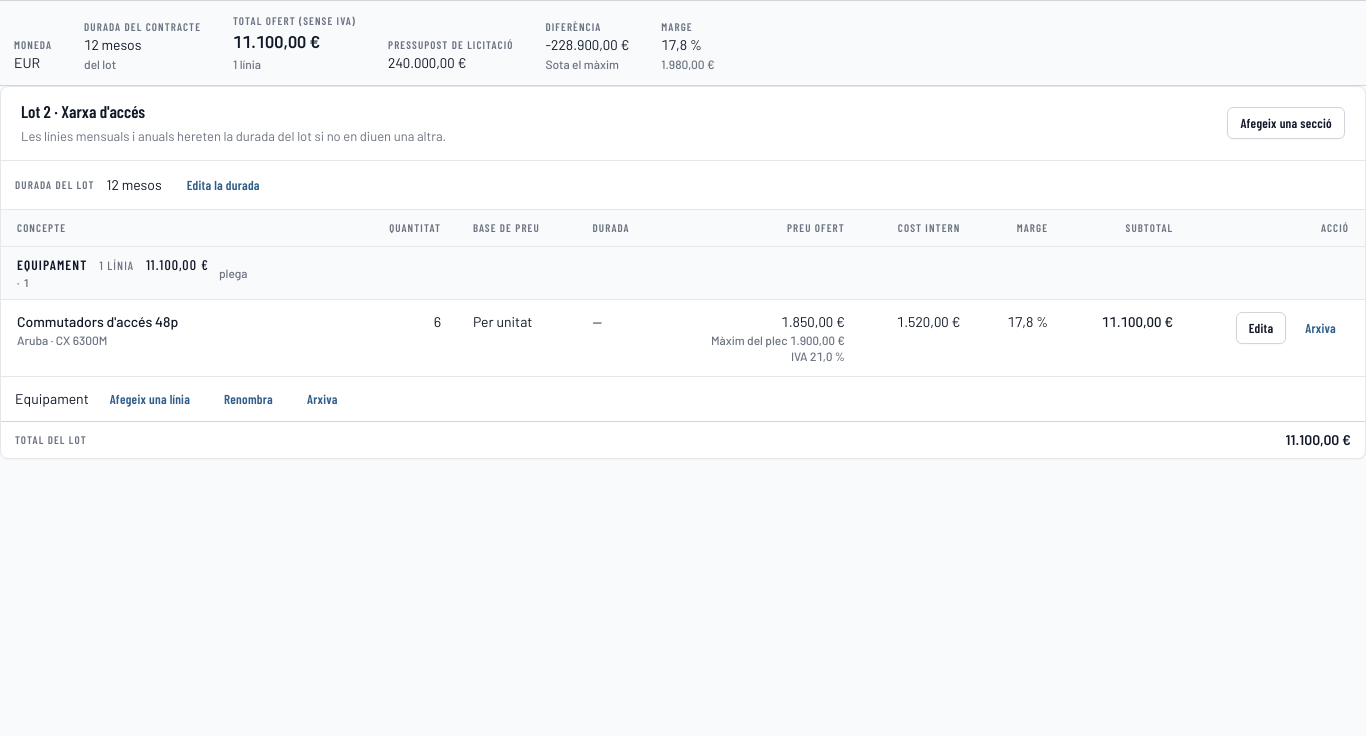
Test: Oferta econòmica · edició › escriure no desa res ni mou els totals
Click the button "Edita" at (1261, 328), box [1236,312,1286,344]
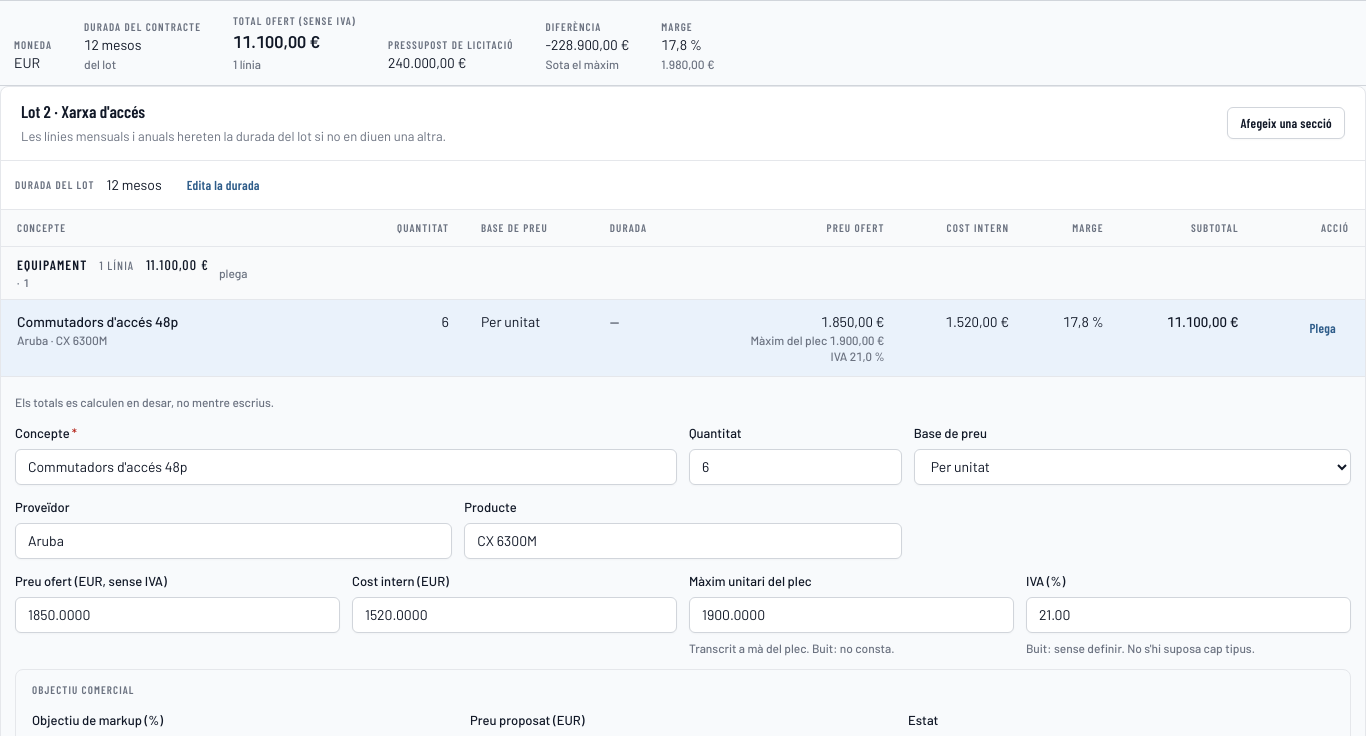
Replace the text in the field labelled "Preu ofert (EUR, sense IVA)" with "9999" at (178, 615), box [15,597,340,633]
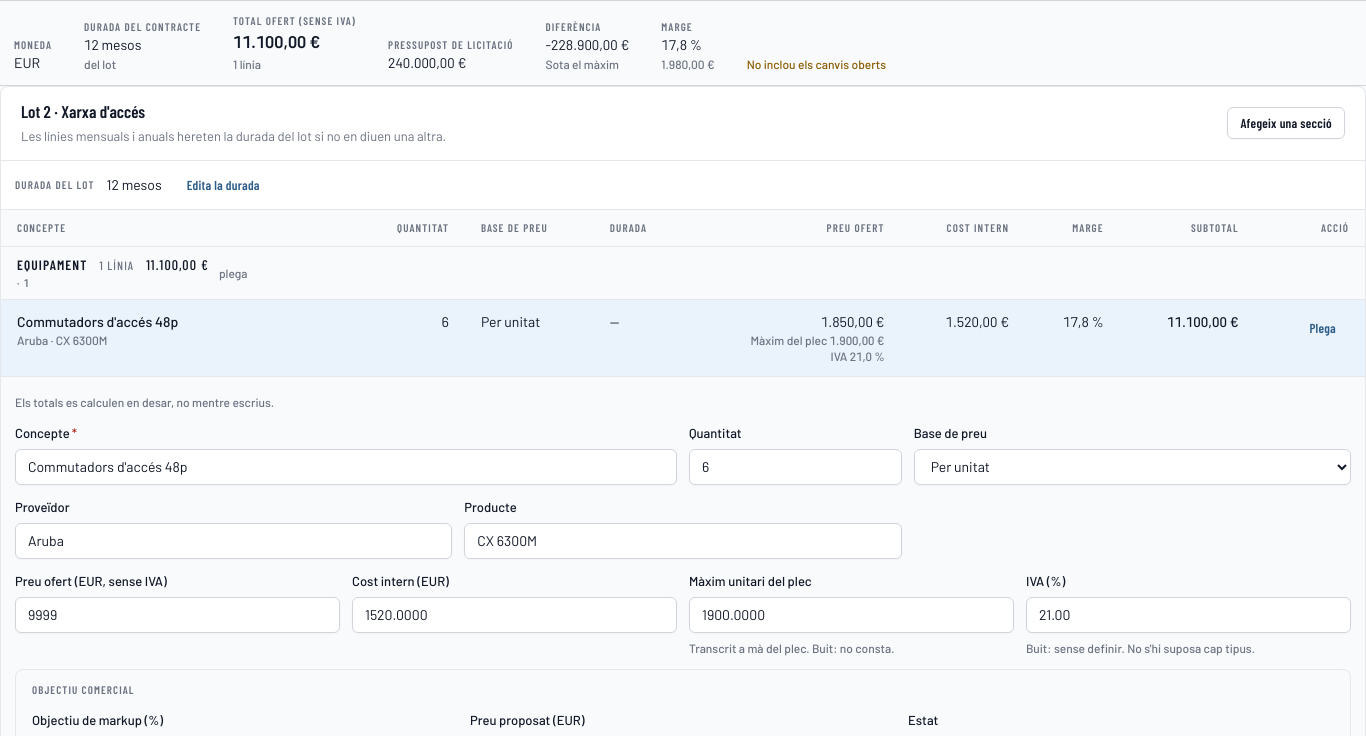
expect the text "11.100,00" is shown: met, box [233,31,320,51]
expect the text "No inclou els canvis oberts" is shown: met, box [747,54,886,72]
